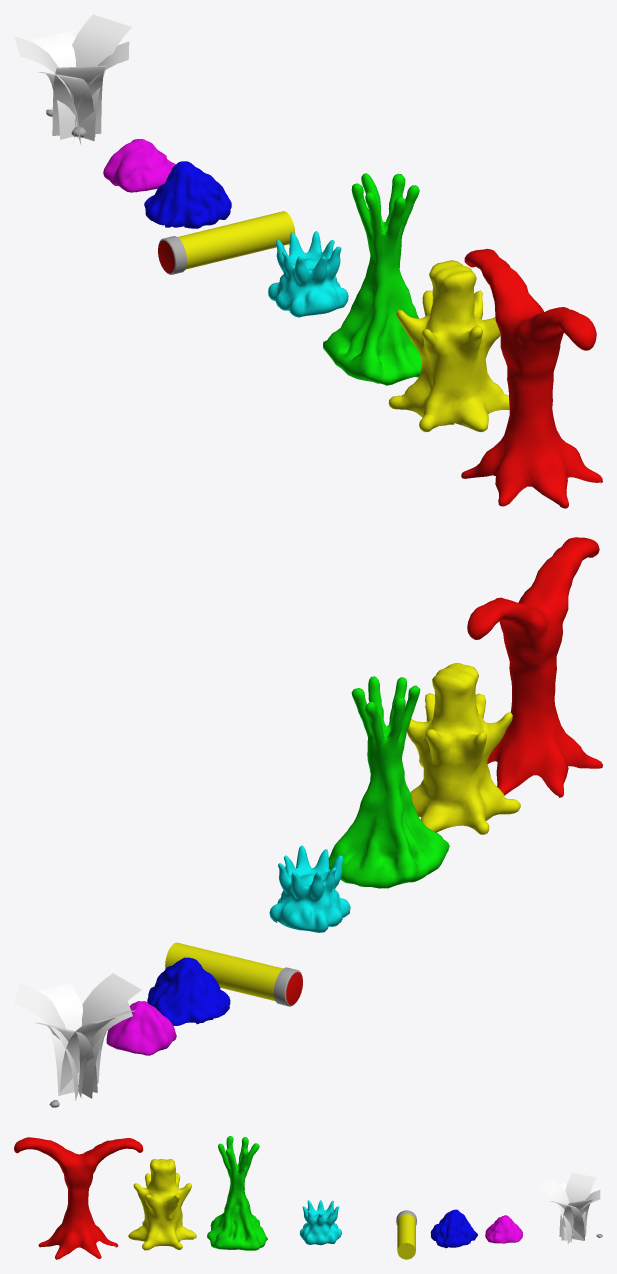
Rendered from FloraFauna.fbx.
3 views of the same model, one above another, from view 1: azimuth 30°, elevation 25°; view 2: azimuth 150°, elevation 25°; view 3: azimuth 270°, elevation 25° (orthographic). The views are drawn at different scales.
Visible parts, largest first — view 1: Tree1, Tree2, Tree3, Tall_Grass, Bush1, Tube, Rock1, Rock2; view 2: Tree1, Tree3, Tree2, Tall_Grass, Bush1, Tube, Rock1, Rock2; view 3: Tree1, Tree2, Tree3, Tall_Grass, Bush1, Rock1, Tube, Rock2.
Part boxes in pixels (left/top/right/bottom): Tree1: left=461, top=248, right=602, bottom=508; Tree2: left=388, top=260, right=509, bottom=432; Tree3: left=323, top=173, right=422, bottom=385; Tall_Grass: left=14, top=14, right=131, bottom=145; Bush1: left=268, top=231, right=348, bottom=317; Tube: left=158, top=211, right=295, bottom=274; Rock1: left=144, top=161, right=231, bottom=228; Rock2: left=103, top=139, right=175, bottom=192; Tree1: left=467, top=537, right=602, bottom=797; Tree3: left=328, top=676, right=449, bottom=888; Tree2: left=407, top=663, right=520, bottom=834; Tall_Grass: left=14, top=973, right=141, bottom=1100; Bush1: left=269, top=845, right=350, bottom=932; Tube: left=165, top=942, right=302, bottom=1006; Rock1: left=147, top=957, right=230, bottom=1025; Rock2: left=106, top=1001, right=176, bottom=1055; Tree1: left=14, top=1137, right=143, bottom=1259; Tree2: left=128, top=1159, right=196, bottom=1250; Tree3: left=207, top=1136, right=267, bottom=1250; Tall_Grass: left=537, top=1173, right=600, bottom=1243; Bush1: left=300, top=1200, right=341, bottom=1245; Rock1: left=430, top=1209, right=477, bottom=1248; Tube: left=396, top=1210, right=416, bottom=1259; Rock2: left=485, top=1215, right=522, bottom=1243.
Size of the model in its own units: 3.25 by 5.12 by 25.24.
8 materials, 1 textured.
